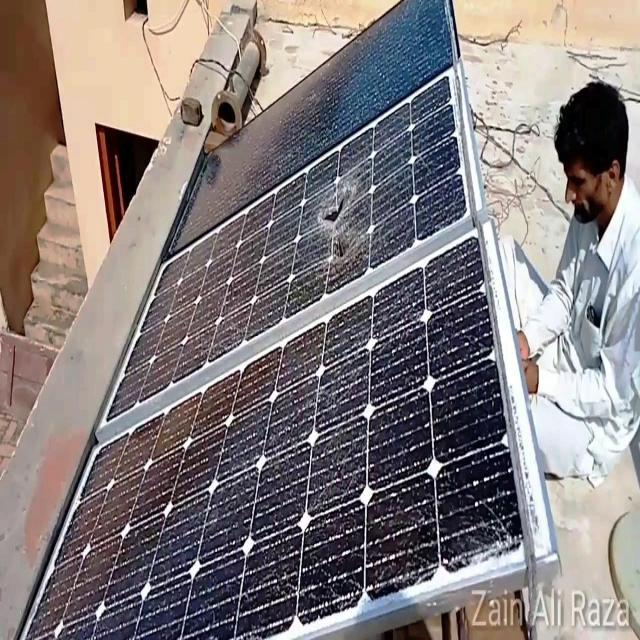faulty: (9, 230, 524, 640), (90, 69, 480, 436)
